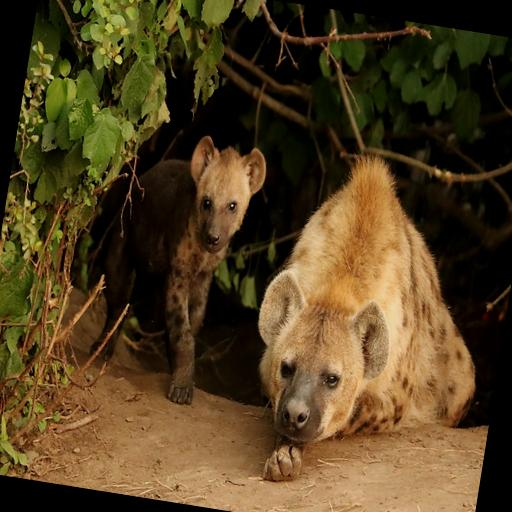hyenas: (0, 79, 512, 484)
